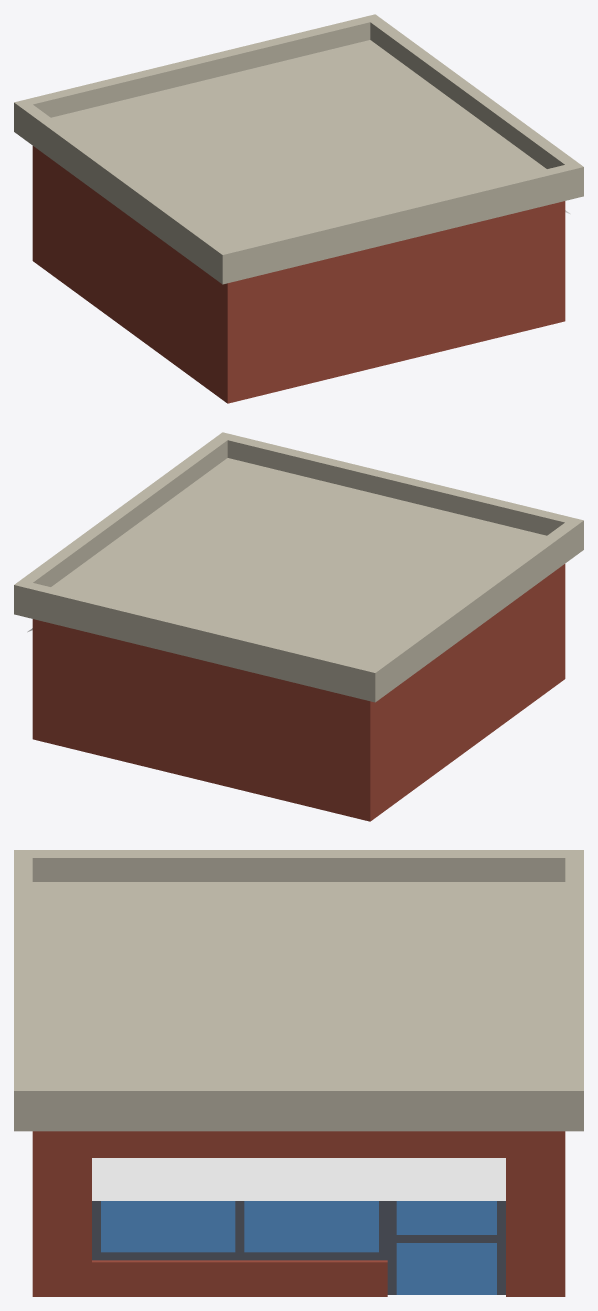
File: cafe_r1.fbx
The picture shows the model from 3 angles, top to bottom: view 1: azimuth 30°, elevation 25°; view 2: azimuth 150°, elevation 25°; view 3: azimuth 270°, elevation 25°; orthographic projection. The views are drawn at different scales.
Visible parts, largest first — view 1: Cafe3; view 2: Cafe3; view 3: Cafe3.
Boxes of the visible parts, x1,y1,x2,y2 form: Cafe3: (14, 14, 583, 403); Cafe3: (14, 432, 583, 821); Cafe3: (14, 850, 583, 1296).
Size of the model in its own units: 6712 by 2660 by 6424.
